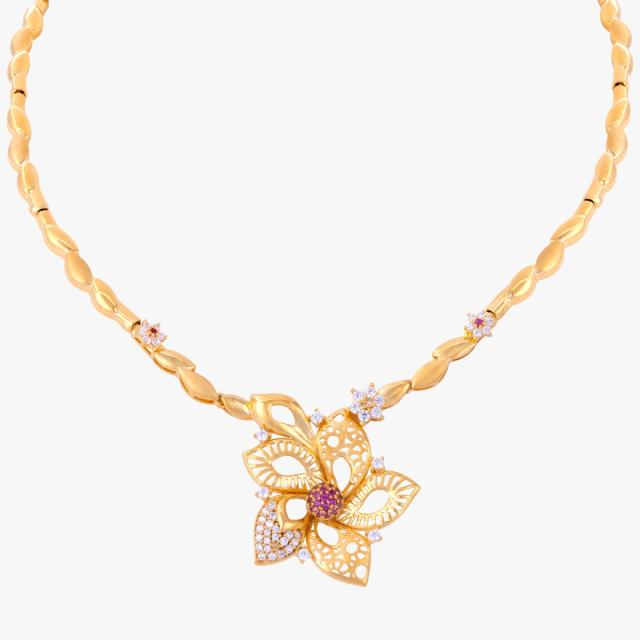missing gem: (361, 397, 373, 410), (272, 542, 280, 550)
